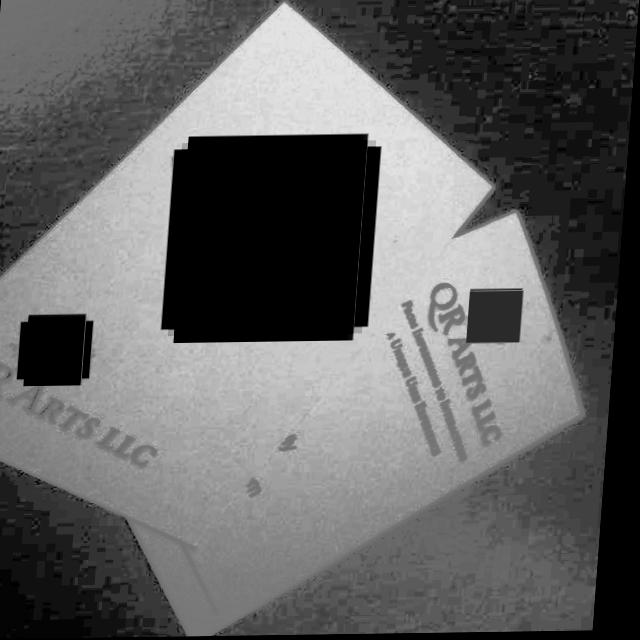qr_code: (172, 142, 377, 337), (25, 317, 93, 383), (471, 291, 527, 344)
